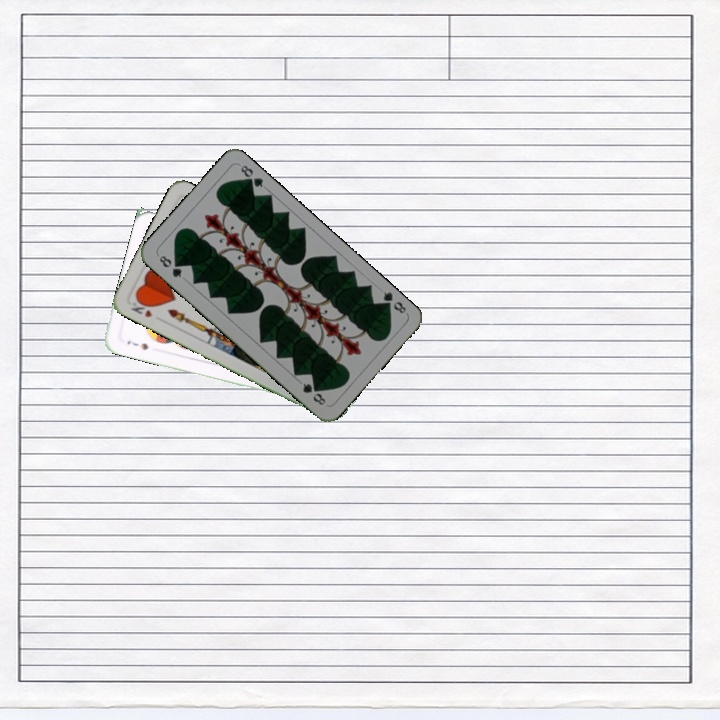G8: (377, 287, 409, 316), (155, 251, 185, 281)
HK: (127, 294, 155, 320)
S7: (123, 337, 151, 353)
